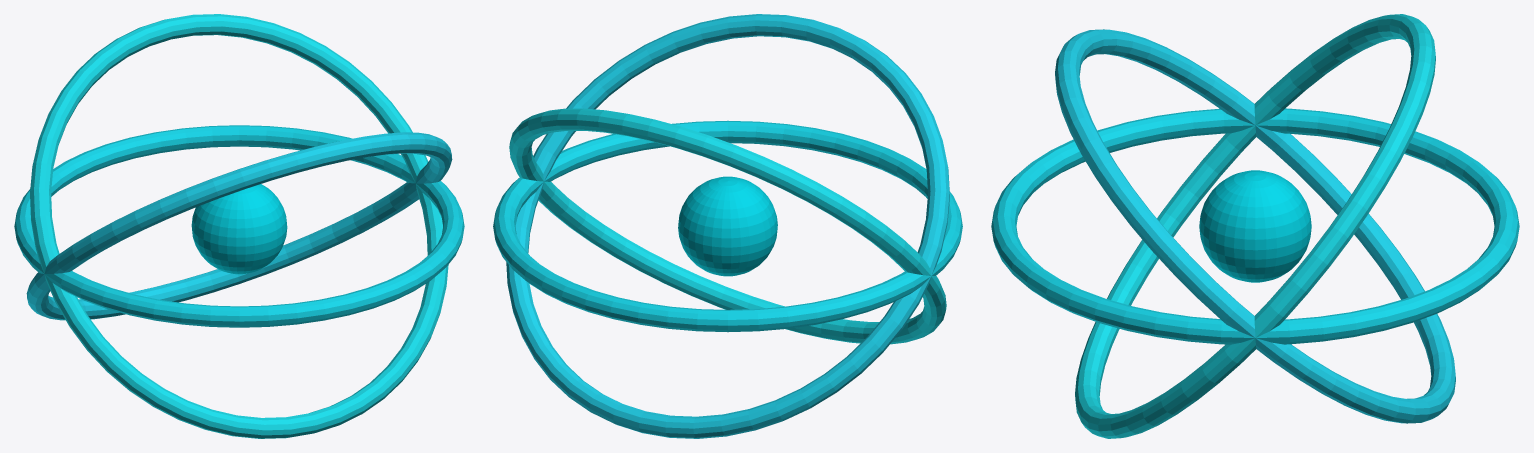
The model's file is React.glb.
3 renders of one model, left to right at view 1: azimuth 30°, elevation 25°; view 2: azimuth 150°, elevation 25°; view 3: azimuth 270°, elevation 25°, orthographic. The views are drawn at different scales.
Visible parts, largest first — view 1: react2, react1, react3, react ball; view 2: react3, react1, react2, react ball; view 3: react1, react3, react2, react ball.
Part boxes in pixels (left/top/right/bottom): react2: left=30, top=14, right=448, bottom=438; react1: left=14, top=125, right=464, bottom=327; react3: left=26, top=132, right=452, bottom=320; react ball: left=191, top=184, right=287, bottom=274; react3: left=506, top=14, right=949, bottom=438; react1: left=493, top=120, right=962, bottom=332; react2: left=509, top=108, right=946, bottom=344; react ball: left=678, top=176, right=777, bottom=276; react1: left=991, top=108, right=1519, bottom=344; react3: left=1055, top=29, right=1455, bottom=423; react2: left=1075, top=14, right=1435, bottom=438; react ball: left=1199, top=170, right=1311, bottom=282.
Bounding box in the file's own units: 2.94 × 2.22 × 2.94.
